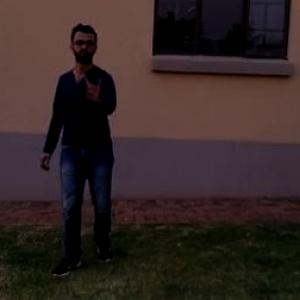takeoff-hand: (74, 64, 108, 102)
